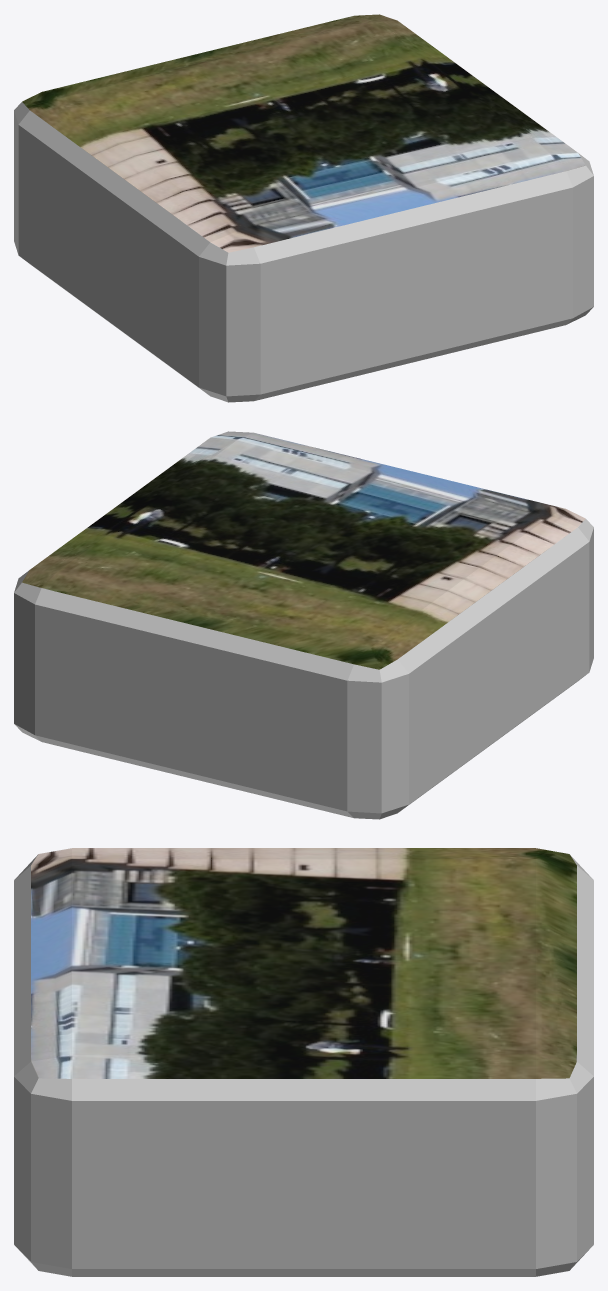
Rendered from peça4.obj.
3 views of the same model, one above another, from view 1: azimuth 30°, elevation 25°; view 2: azimuth 150°, elevation 25°; view 3: azimuth 270°, elevation 25° (orthographic). The views are drawn at different scales.
Parts seen in each view (by area): view 1: Cubo.006; view 2: Cubo.006; view 3: Cubo.006.
Boxes of the visible parts, x1=… form: Cubo.006: x1=14, y1=14, x2=593, y2=402; Cubo.006: x1=14, y1=431, x2=593, y2=819; Cubo.006: x1=14, y1=848, x2=593, y2=1276.
Size of the model in its own units: 0.5 by 0.2 by 0.5.
